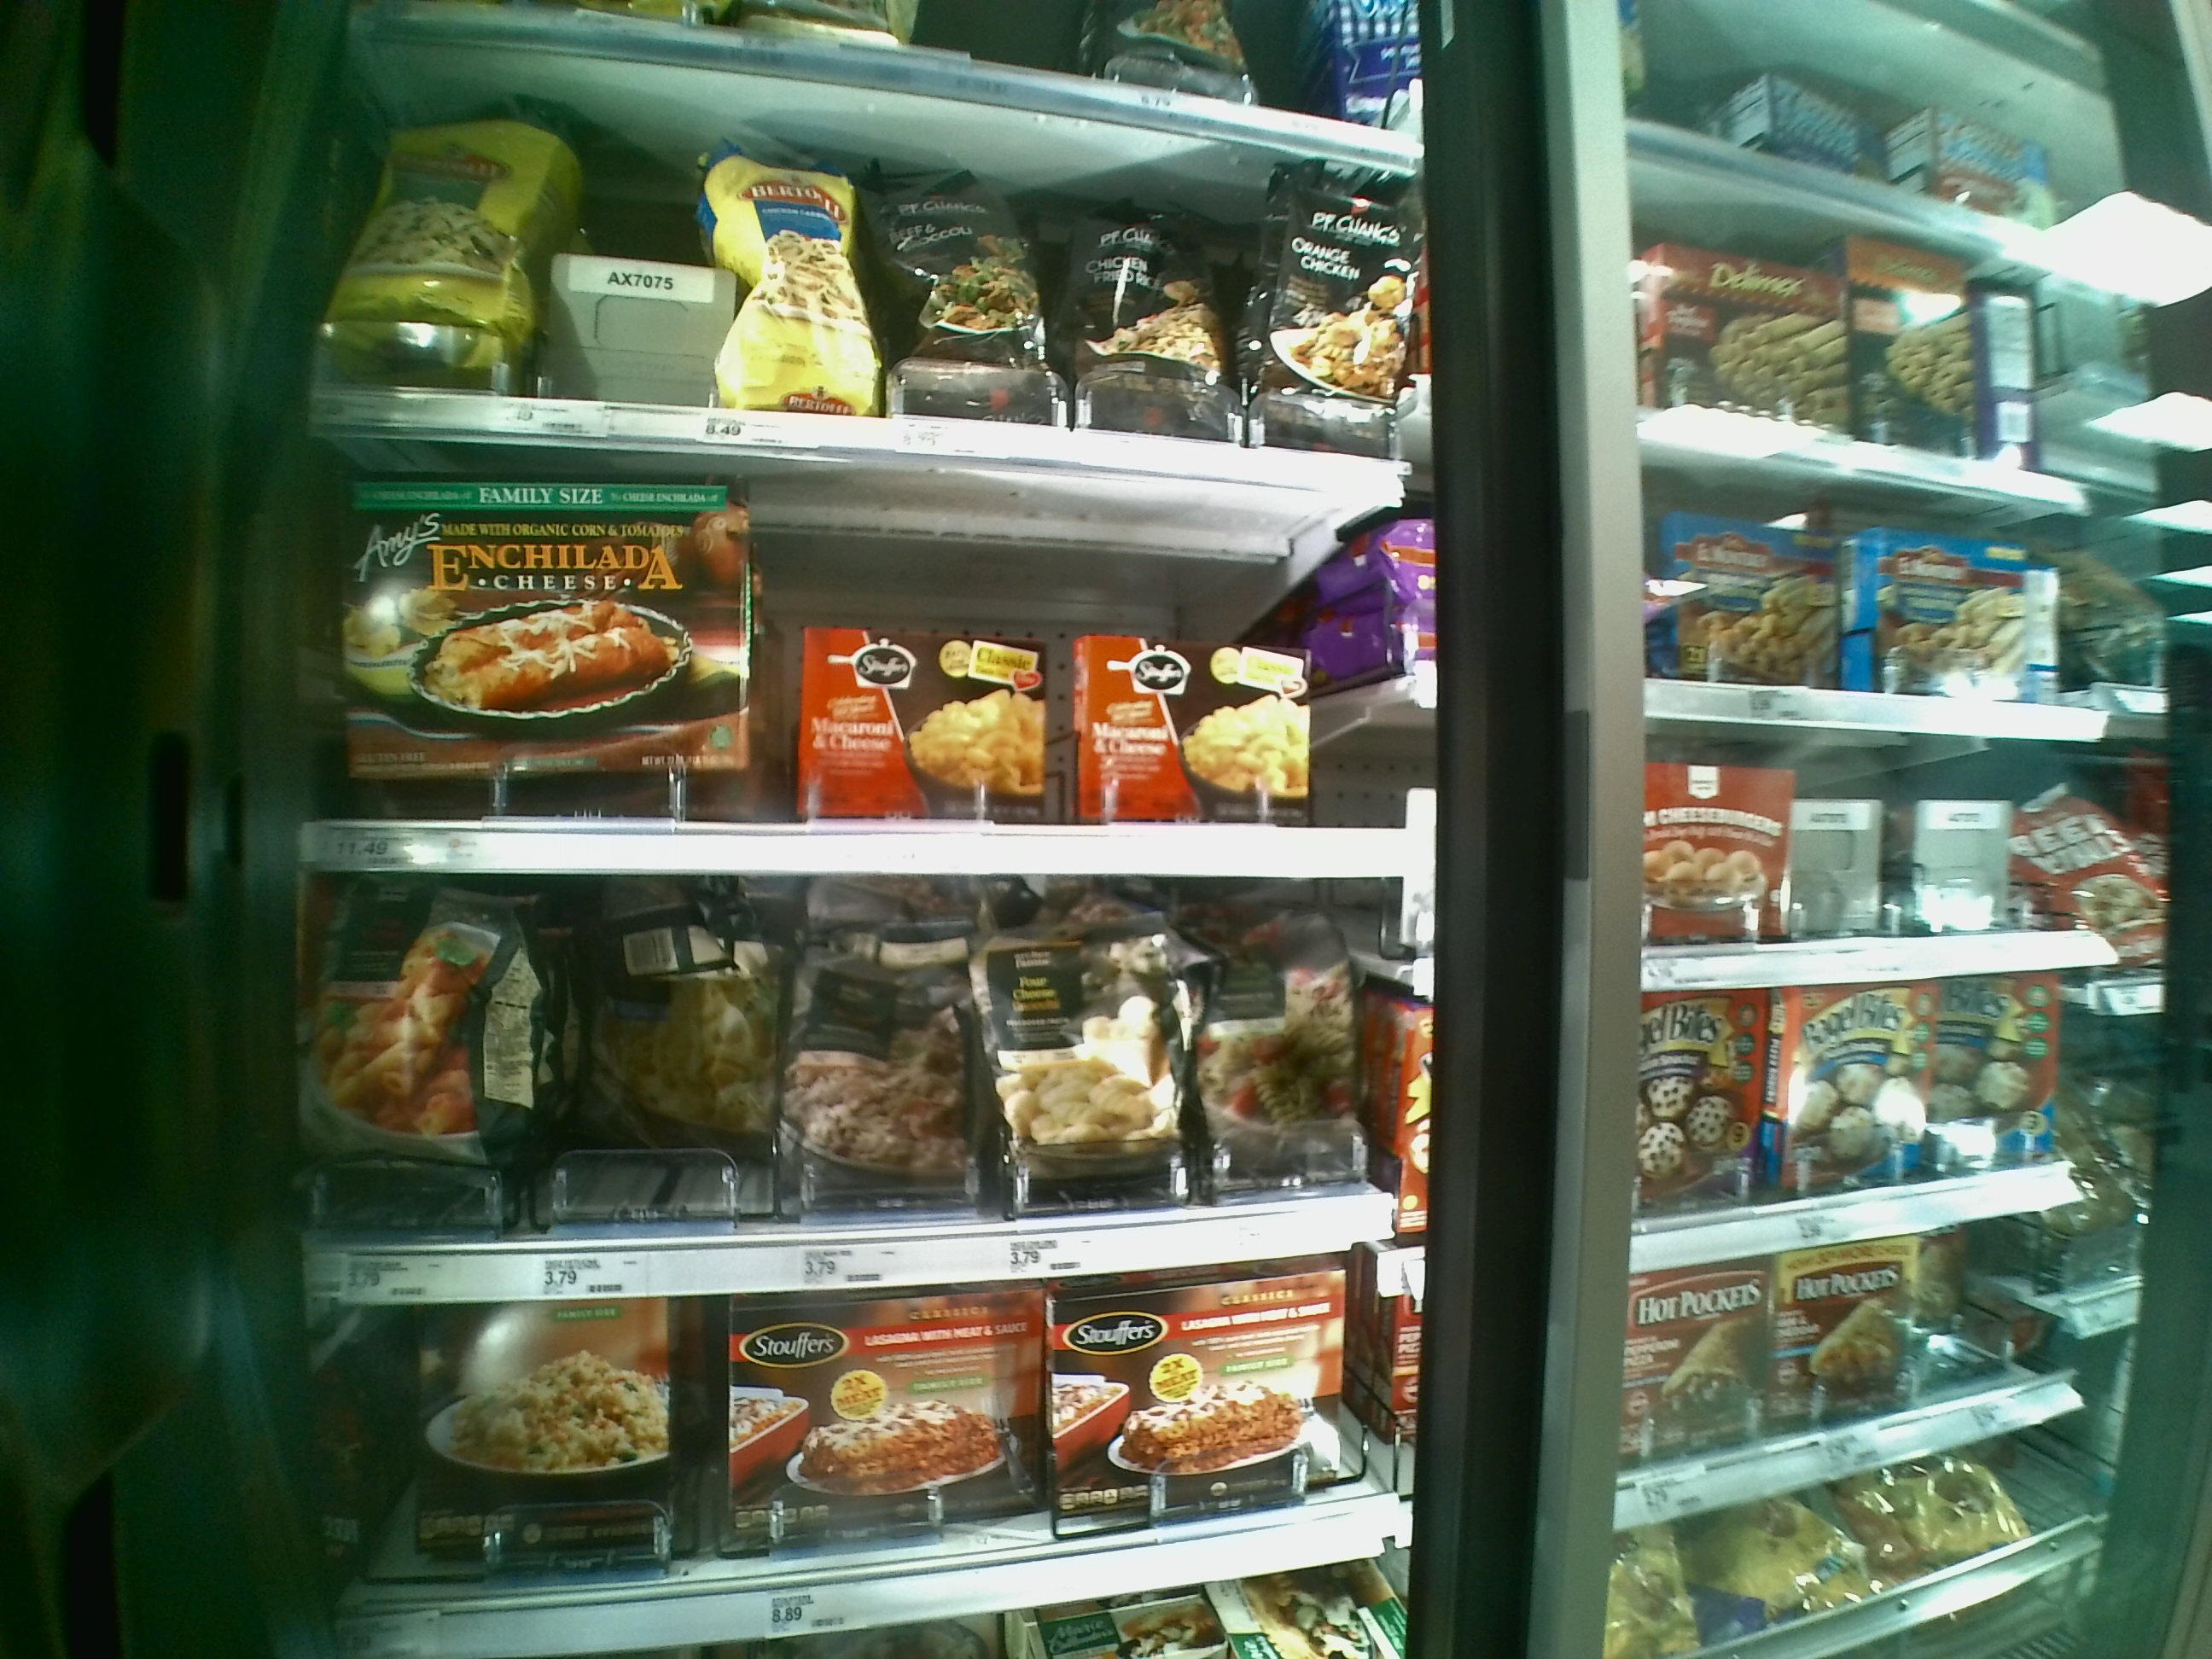shelf: (293, 871, 1421, 1295), (307, 464, 1423, 878), (307, 61, 1413, 469), (320, 1291, 1406, 1624)
